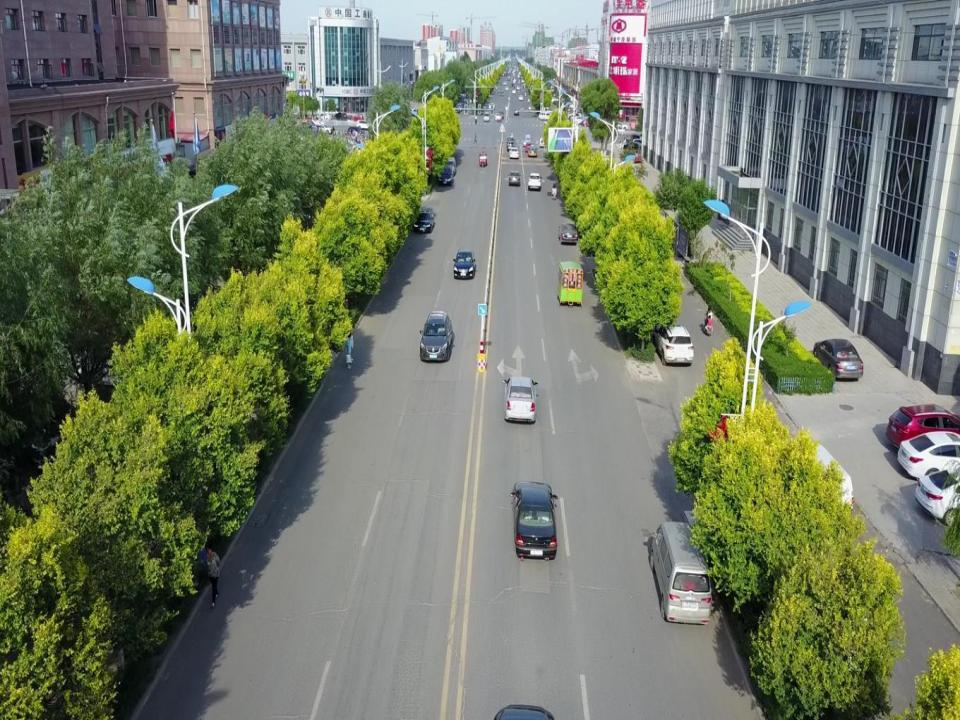car: (512, 482, 557, 560), (888, 403, 960, 450), (898, 428, 960, 478), (916, 467, 960, 522), (813, 340, 862, 382), (656, 323, 694, 366), (503, 376, 536, 420), (421, 312, 452, 358), (452, 252, 473, 277), (414, 210, 434, 233), (558, 222, 578, 244), (438, 166, 454, 184), (528, 172, 541, 189), (507, 172, 521, 186), (525, 142, 534, 154), (523, 135, 532, 147), (528, 146, 538, 156), (510, 147, 518, 159), (507, 140, 515, 152)
van: (647, 520, 710, 625), (445, 157, 456, 176)
